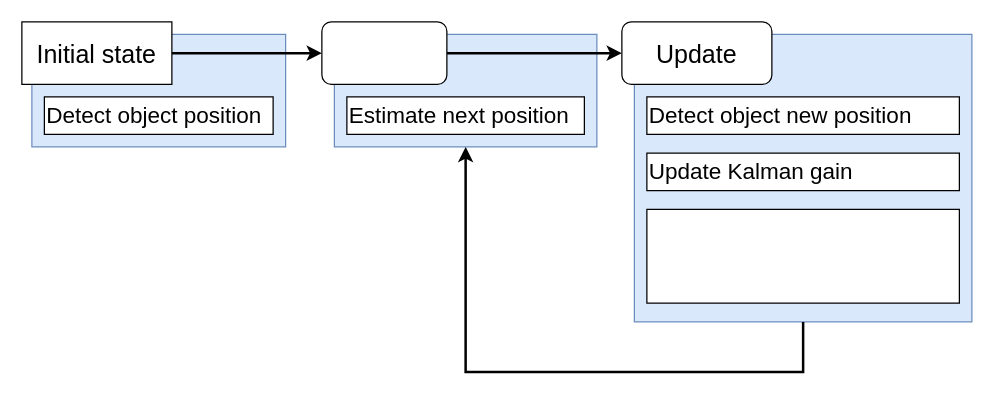
Image size: 994x405. Some labels were removed from this diagram. Here are the shapes that lost their labels. From the top down, the centre of each, then its label:
At (x=384, y=52): "Prediction".
At (x=802, y=255): "Update output position using error between estimated and measured position".
